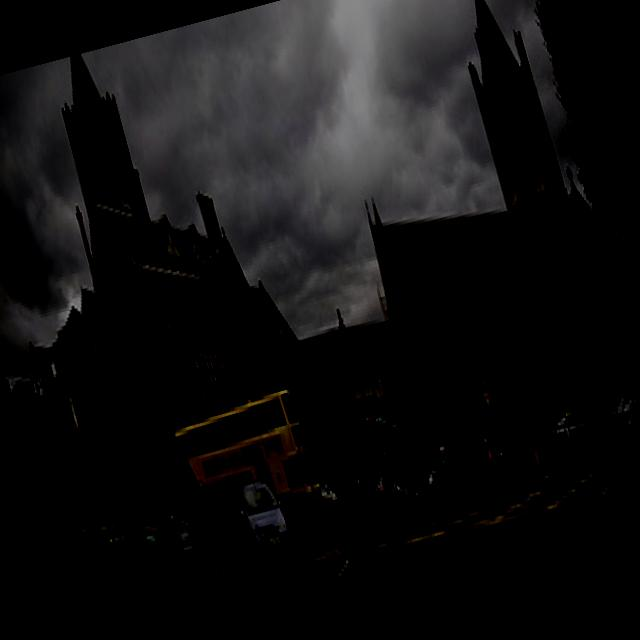Vehicle: (168, 386, 326, 546), (75, 511, 232, 640), (418, 428, 506, 512), (232, 477, 298, 573), (546, 402, 604, 462), (608, 389, 640, 449), (312, 475, 344, 522), (370, 472, 392, 510), (56, 520, 80, 546)
